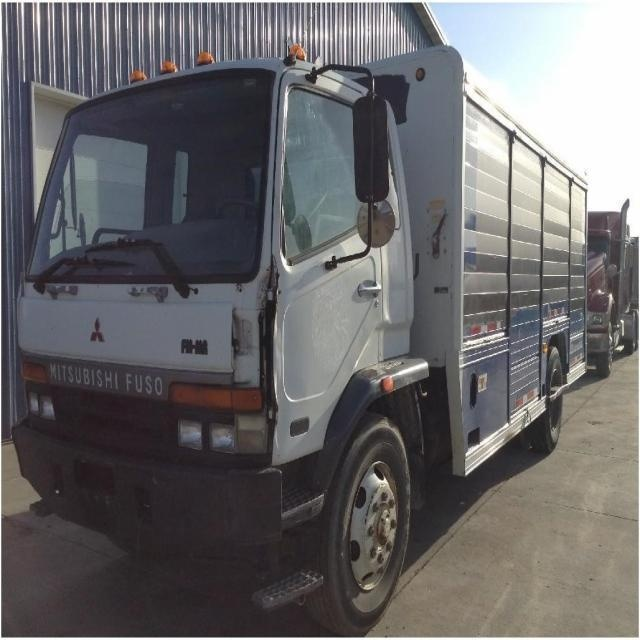Truck: (11, 44, 588, 635)
